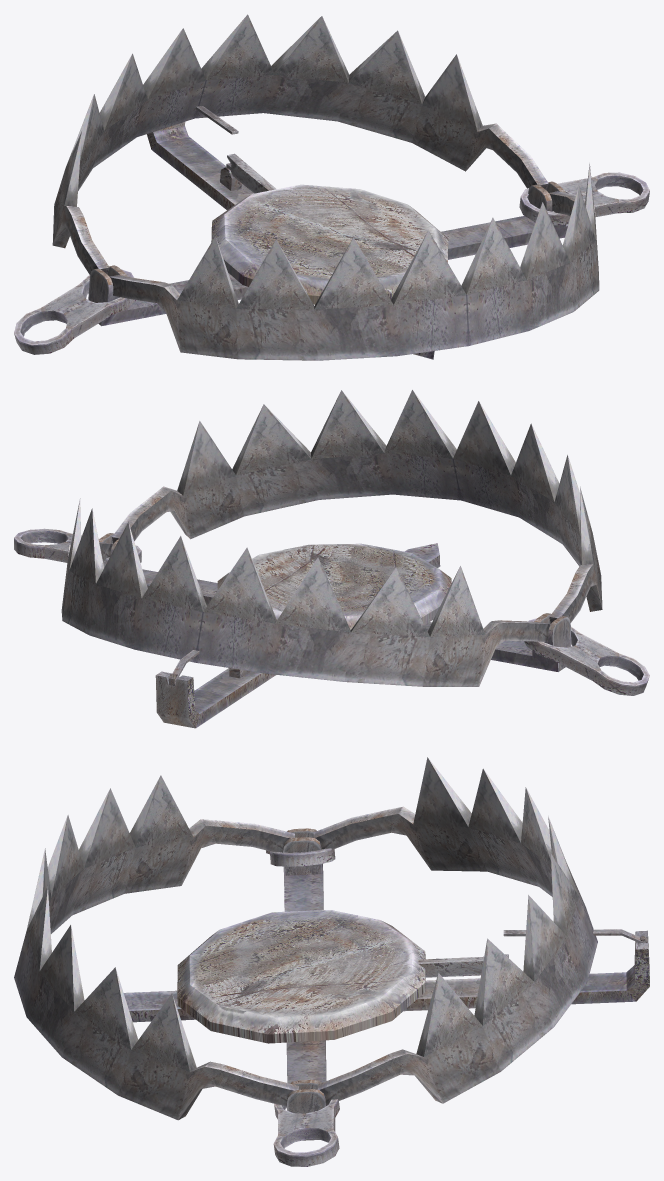
3 renders of one model, top to bottom at view 1: azimuth 30°, elevation 25°; view 2: azimuth 150°, elevation 25°; view 3: azimuth 270°, elevation 25°, orthographic. The views are drawn at different scales.
Visible parts, largest first — view 1: Trap_LeftSide, Trap_RightSide, Trap_Center, Trap_Cross, Trap_1, Trap_4; view 2: Trap_RightSide, Trap_LeftSide, Trap_Center, Trap_Cross, Trap_1; view 3: Trap_RightSide, Trap_LeftSide, Trap_Center, Trap_Cross, Trap_1, Trap_4.
Boxes of the visible parts, bbox=[...] form: Trap_LeftSide: bbox=[109, 163, 599, 360]; Trap_RightSide: bbox=[52, 14, 548, 275]; Trap_Center: bbox=[211, 184, 448, 304]; Trap_Cross: bbox=[87, 122, 568, 359]; Trap_1: bbox=[14, 172, 649, 354]; Trap_4: bbox=[226, 153, 276, 193]; Trap_RightSide: bbox=[61, 498, 550, 686]; Trap_LeftSide: bbox=[112, 390, 602, 623]; Trap_Center: bbox=[217, 543, 451, 629]; Trap_Cross: bbox=[99, 533, 571, 728]; Trap_1: bbox=[14, 528, 649, 695]; Trap_RightSide: bbox=[313, 757, 597, 1105]; Trap_LeftSide: bbox=[14, 775, 298, 1120]; Trap_Center: bbox=[177, 910, 425, 1043]; Trap_Cross: bbox=[123, 828, 649, 1140]; Trap_1: bbox=[266, 848, 339, 1166]; Trap_4: bbox=[418, 954, 508, 977].
Size of the model in its own units: 150 by 41.34 by 125.
Materials: 1 (1 with a texture image).
